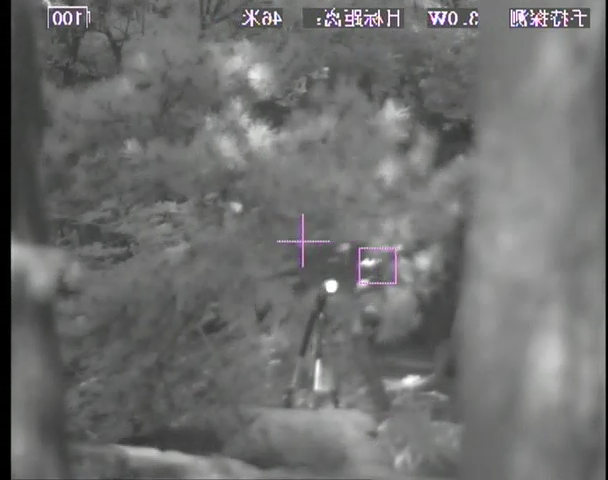my: (323, 277, 339, 294)
